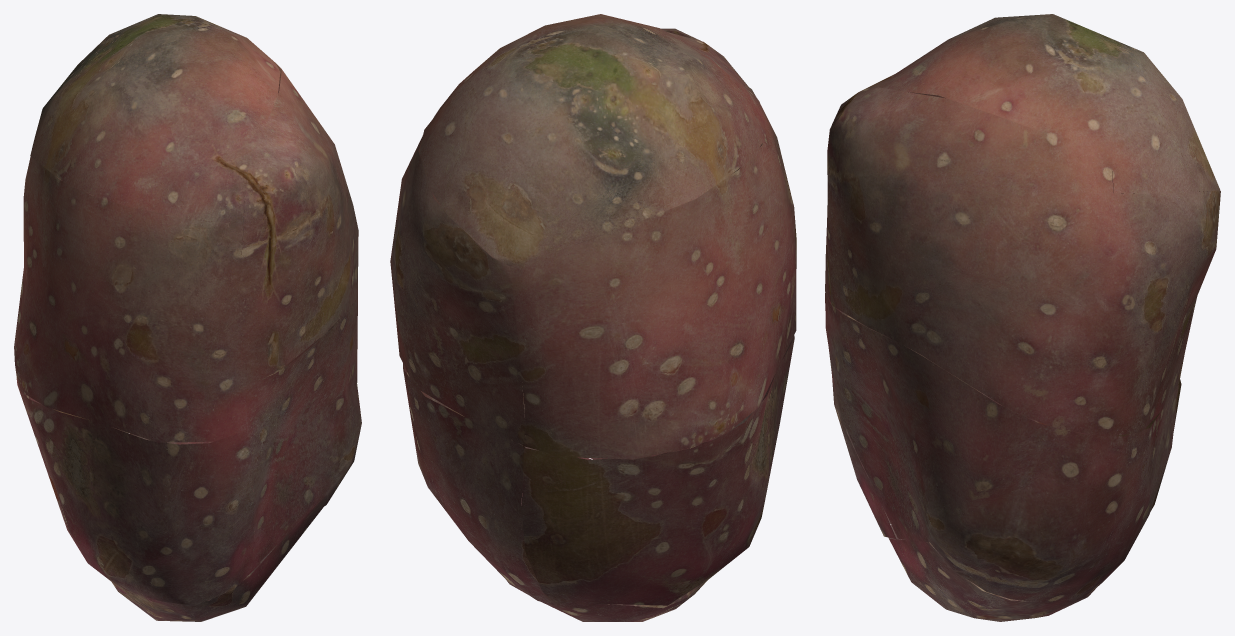
Rendered from tuber.glb.
3 renders of one model, left to right at view 1: azimuth 30°, elevation 25°; view 2: azimuth 150°, elevation 25°; view 3: azimuth 270°, elevation 25°, orthographic. The views are drawn at different scales.
Visible parts, largest first — view 1: sweet_potato; view 2: sweet_potato; view 3: sweet_potato.
Boxes of the visible parts, bbox=[...] form: sweet_potato: bbox=[14, 14, 361, 621]; sweet_potato: bbox=[390, 14, 796, 621]; sweet_potato: bbox=[825, 14, 1220, 621].
Size of the model in its own units: 0.1707 by 0.2963 by 0.1803.
1 material, 1 textured.
